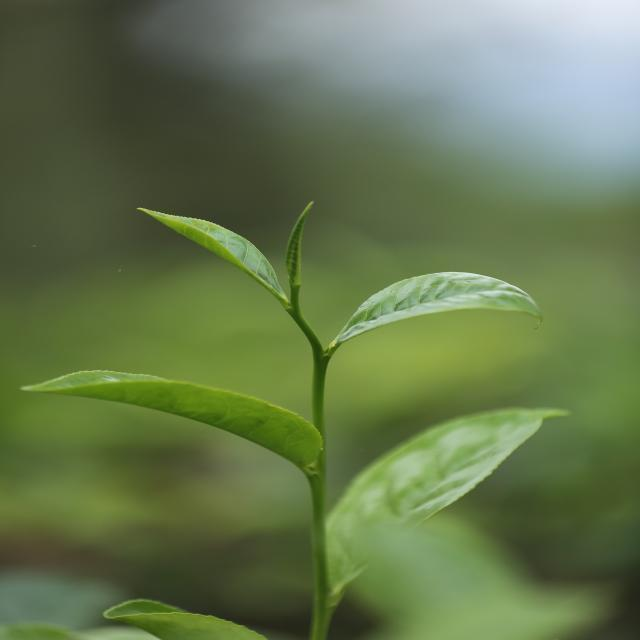Stem: (314, 353, 327, 371)
